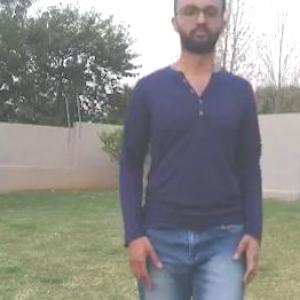follow: (148, 0, 253, 299)
